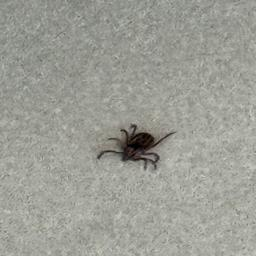Rhipicephalus sanguineus: (96, 125, 177, 171)
